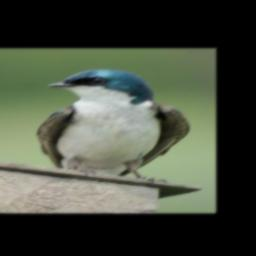Swallow: (34, 68, 190, 184)
